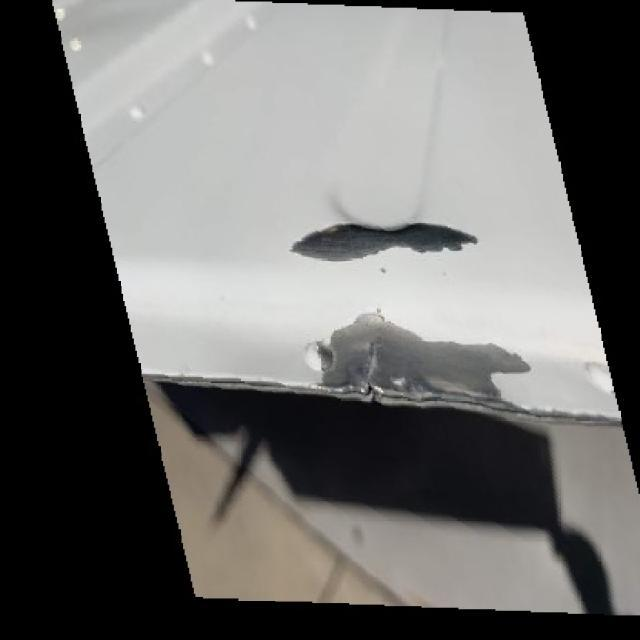crack: (347, 350, 412, 412)
